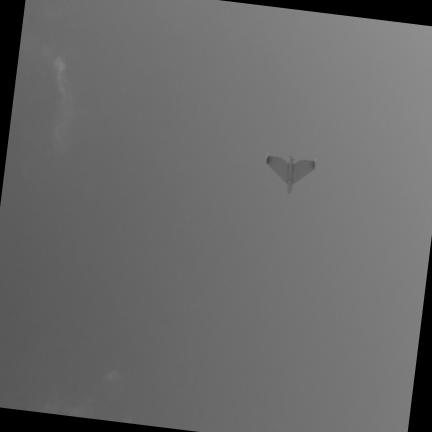Shahed: (265, 151, 317, 193)
